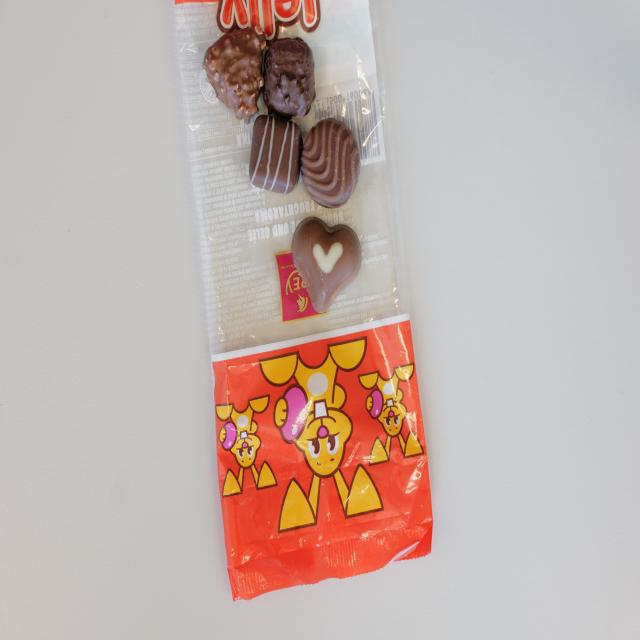Noir_authentique: (303, 118, 360, 205)
Passion_au_lait: (293, 216, 361, 311)
Stracciatella: (248, 114, 302, 198)
Tentation_noir: (262, 39, 314, 114)
Triangolo: (206, 24, 267, 117)
